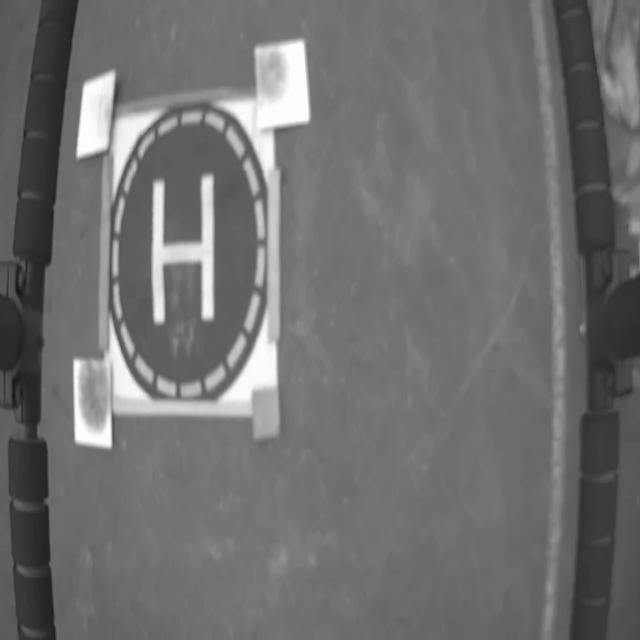Helipad: (152, 172, 214, 324)
